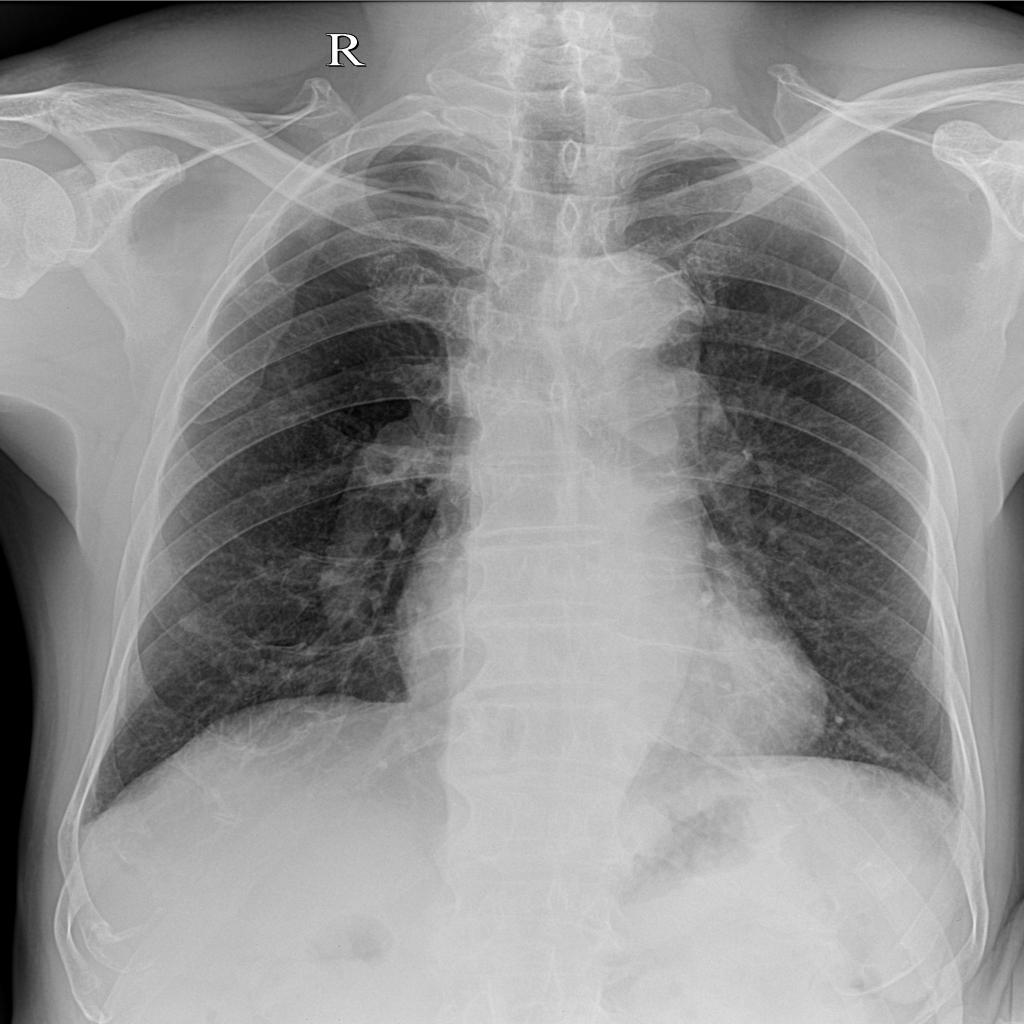Nodule: (167, 610, 206, 640)
